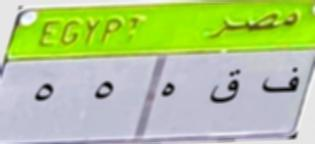5: (25, 78, 64, 107), (90, 73, 120, 107)
faa: (258, 61, 306, 102)
haa: (156, 82, 187, 100)
qaaf: (210, 68, 246, 109)
